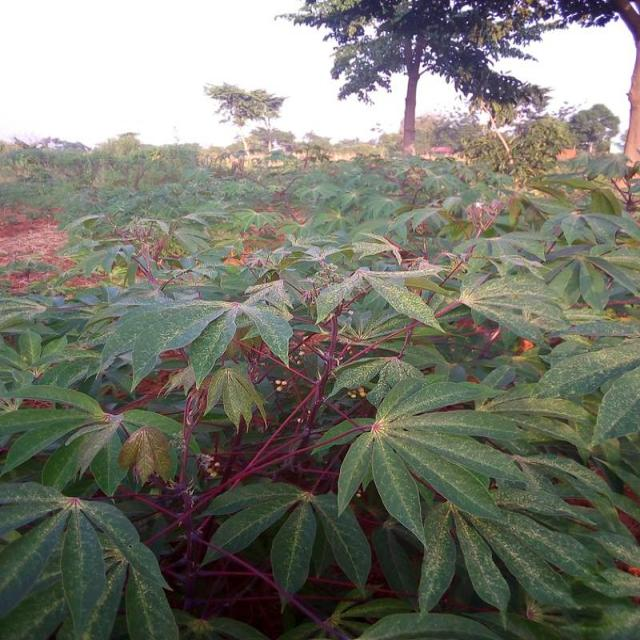cassava leaf: (1, 146, 638, 637)
